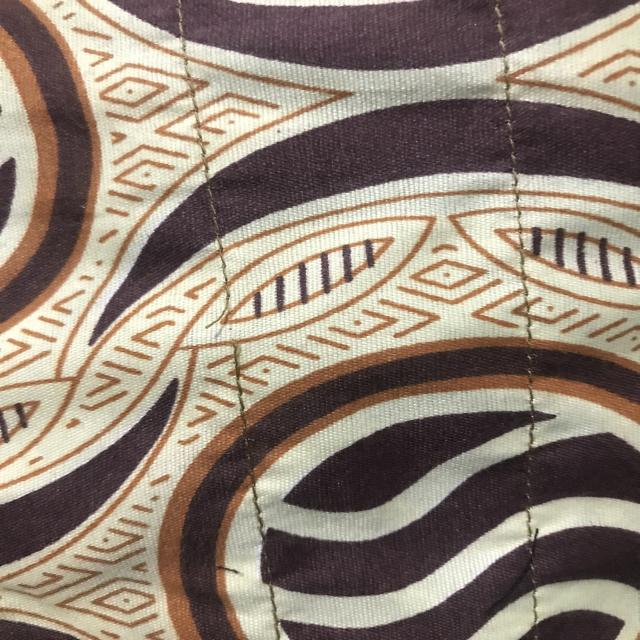broken: (189, 290, 274, 360)
